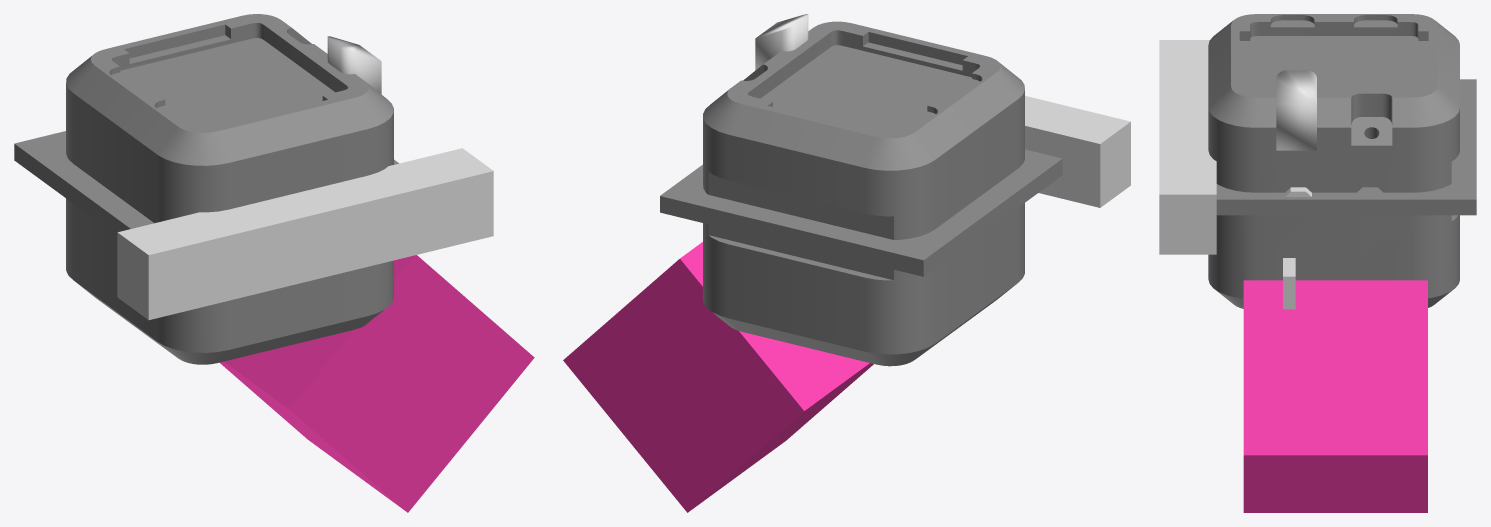
The model's file is Bomb.fbx.
The picture shows the model from 3 angles, left to right: view 1: azimuth 30°, elevation 25°; view 2: azimuth 150°, elevation 25°; view 3: azimuth 270°, elevation 25°; orthographic projection. The views are drawn at different scales.
Parts seen in each view (by area): view 1: CUBE, Cube.001, long reactangle ide, slice, Leany cut; view 2: CUBE, Cube.001, slice, long reactangle ide, Leany cut; view 3: CUBE, Cube.001, long reactangle ide, slice, Leany cut, flat squeer.
Boxes of the visible parts, box(x1,y1,x2,y2) form: CUBE: box(66, 14, 393, 364); Cube.001: box(220, 255, 534, 512); long reactangle ide: box(117, 148, 493, 319); slice: box(14, 131, 399, 235); Leany cut: box(327, 36, 381, 94); CUBE: box(703, 21, 1024, 366); Cube.001: box(563, 242, 873, 512); slice: box(660, 149, 1062, 276); long reactangle ide: box(1025, 96, 1130, 207); Leany cut: box(755, 14, 808, 70); CUBE: box(1208, 14, 1459, 308); Cube.001: box(1243, 280, 1427, 512); long reactangle ide: box(1159, 40, 1216, 254); slice: box(1216, 79, 1476, 215); Leany cut: box(1276, 70, 1316, 150); flat squeer: box(1283, 258, 1295, 309).
Bounding box in the file's own units: 497 × 506 × 344.
